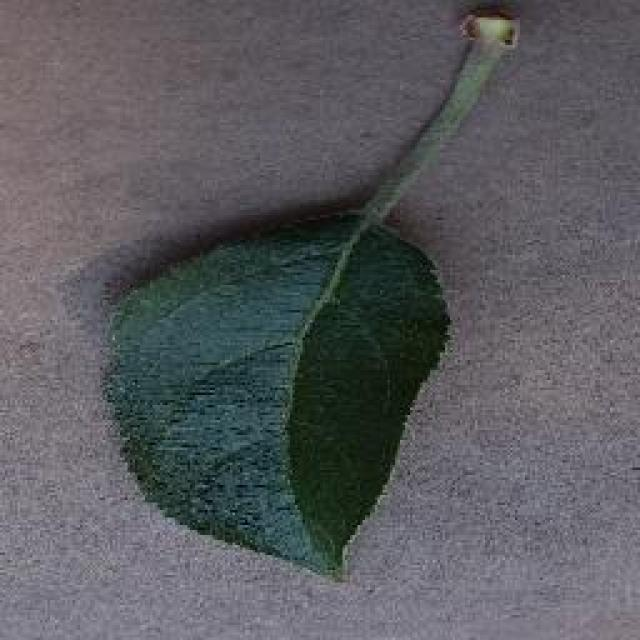apple healthy: (458, 0, 520, 48)
